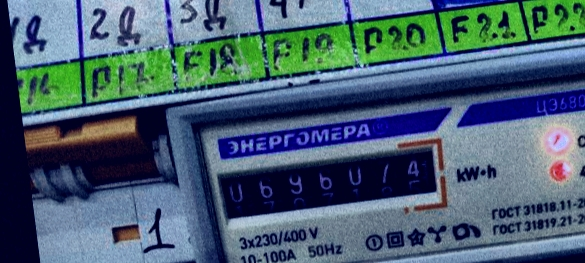0: (222, 177, 244, 203), (343, 160, 362, 187)
4: (401, 153, 419, 176)
5: (405, 177, 423, 194)
6: (314, 163, 335, 191), (254, 173, 274, 199)
7: (373, 157, 393, 184)
9: (284, 168, 303, 196)
screen: (204, 132, 451, 231)
